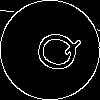Q: (25, 25, 83, 76)
